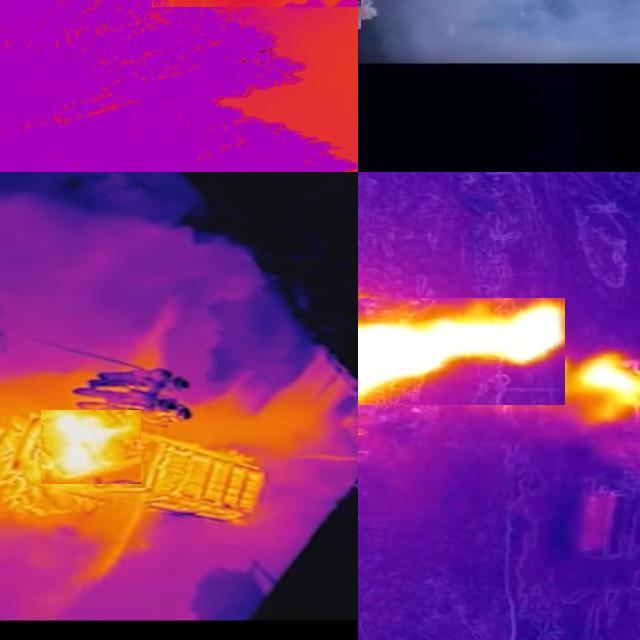fire: (359, 298, 566, 405), (42, 410, 142, 484), (569, 347, 640, 419)
